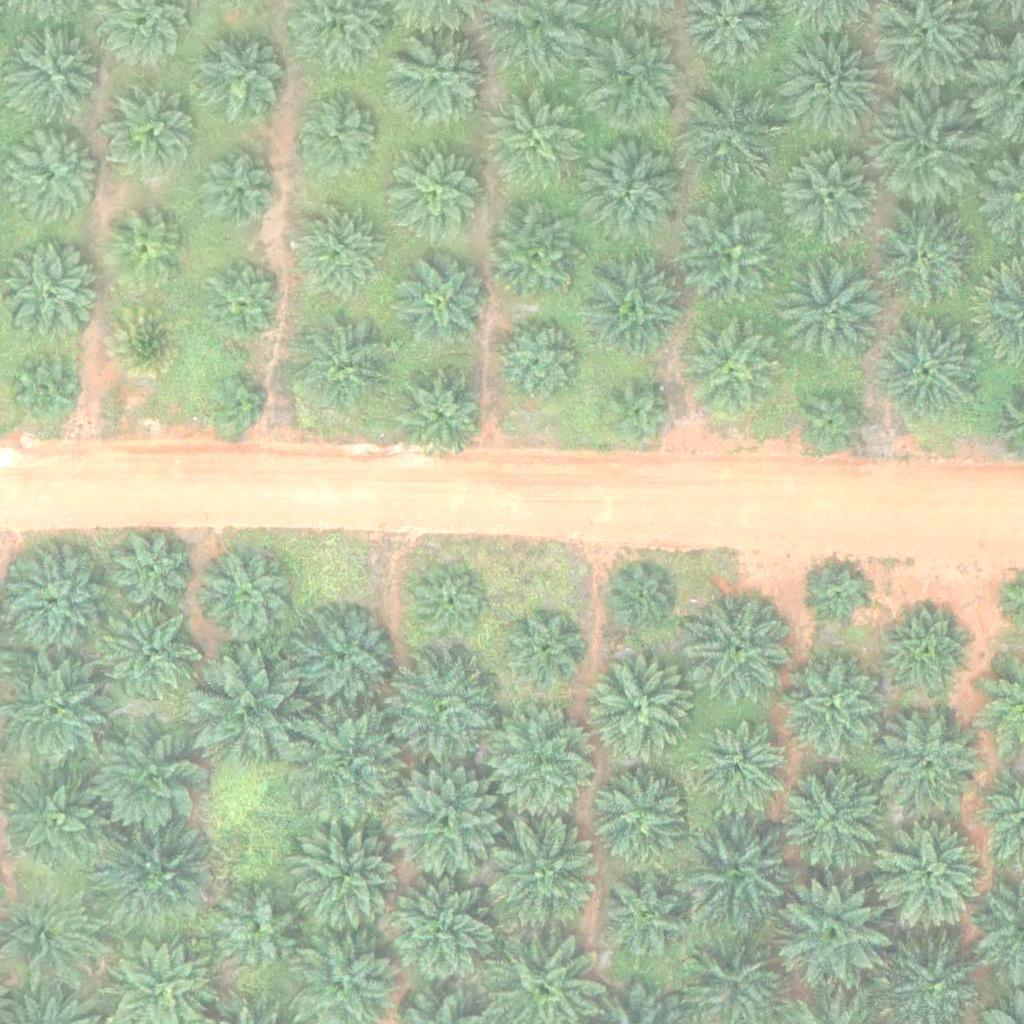Kelapa_Sawit: (87, 714, 212, 840), (184, 647, 309, 773), (287, 706, 412, 832), (381, 871, 506, 997), (482, 813, 607, 939), (673, 804, 798, 930), (773, 873, 898, 999), (869, 816, 994, 941), (293, 824, 406, 938), (485, 706, 598, 819), (388, 762, 500, 876), (867, 96, 979, 209), (1, 766, 113, 879), (100, 819, 212, 932), (383, 647, 495, 760), (875, 212, 975, 313), (879, 319, 979, 420), (781, 35, 881, 136), (782, 148, 882, 249), (782, 257, 882, 358), (681, 80, 781, 181), (683, 206, 783, 307), (683, 318, 783, 419), (589, 30, 689, 131), (583, 138, 683, 239), (584, 260, 684, 361), (490, 87, 590, 188), (489, 204, 589, 305), (388, 29, 488, 130), (387, 145, 487, 246), (2, 547, 102, 648), (590, 656, 690, 757), (589, 771, 689, 872), (692, 597, 792, 698), (686, 718, 786, 819), (783, 654, 883, 755), (783, 766, 883, 867), (878, 711, 978, 812), (390, 362, 490, 462), (296, 312, 396, 412), (6, 126, 106, 226), (2, 244, 102, 344), (101, 604, 201, 704), (291, 610, 391, 710), (596, 867, 696, 967), (495, 318, 583, 406), (109, 89, 197, 177), (12, 29, 100, 117), (215, 885, 303, 973), (400, 258, 487, 346), (294, 89, 381, 177), (296, 201, 383, 289), (199, 38, 286, 126), (107, 525, 194, 613), (201, 551, 288, 639), (889, 607, 976, 695), (109, 214, 184, 290), (199, 153, 274, 229), (412, 568, 487, 644), (601, 377, 676, 453), (206, 262, 281, 338), (110, 303, 185, 379), (8, 352, 83, 428), (509, 612, 584, 687), (797, 385, 872, 460), (610, 566, 673, 629), (208, 375, 270, 438), (810, 564, 872, 627)
